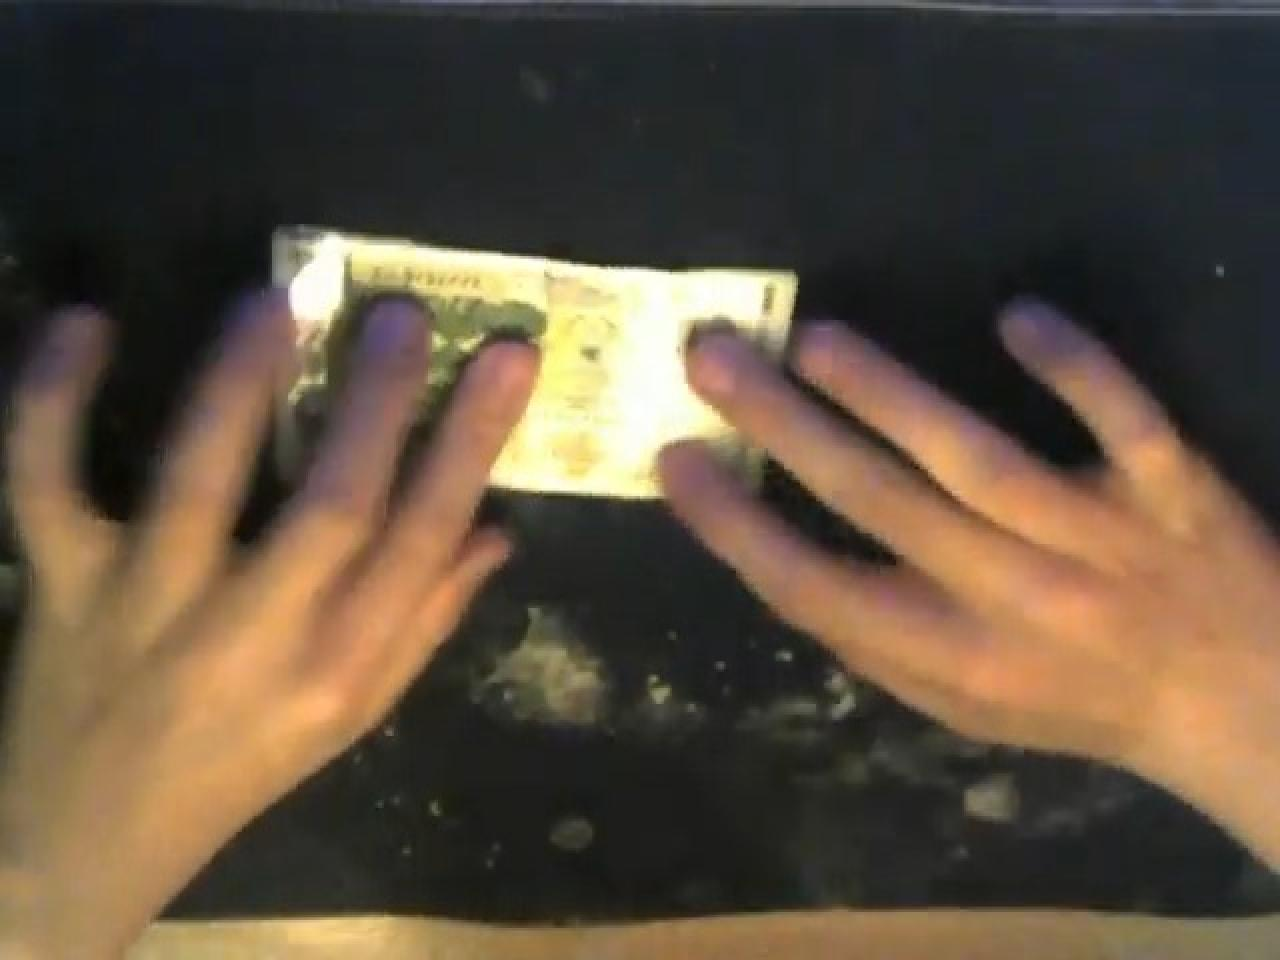10leva: (272, 227, 798, 496)
